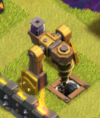dark_elixir_colector: (16, 17, 91, 102)
